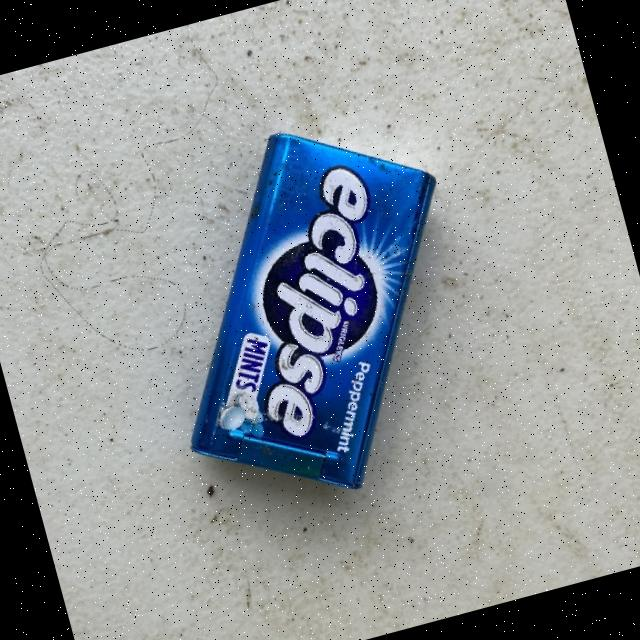metal: (115, 94, 508, 528)
